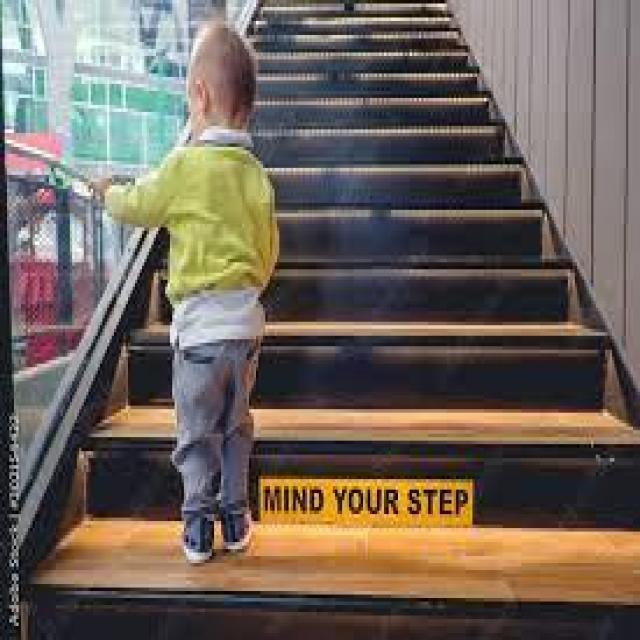child: (81, 21, 282, 563)
